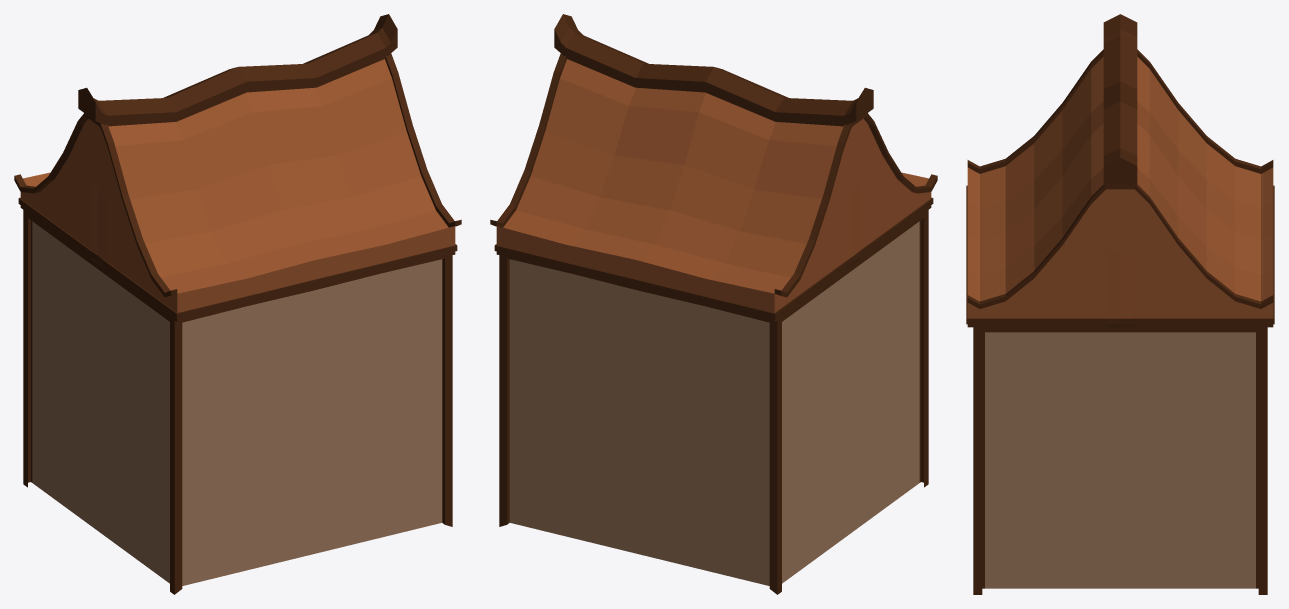
File: obj_chinese_house_2h.fbx
3 views of the same model, side by side, from view 1: azimuth 30°, elevation 25°; view 2: azimuth 150°, elevation 25°; view 3: azimuth 270°, elevation 25° (orthographic). The views are drawn at different scales.
Parts seen in each view (by area): view 1: msh_house_2h; view 2: msh_house_2h; view 3: msh_house_2h.
Part boxes in pixels (bbox=[...]): msh_house_2h: bbox=[14, 14, 461, 594]; msh_house_2h: bbox=[490, 14, 937, 594]; msh_house_2h: bbox=[966, 14, 1274, 594].
Size of the model in its own units: 19.86 by 28.58 by 18.02.
